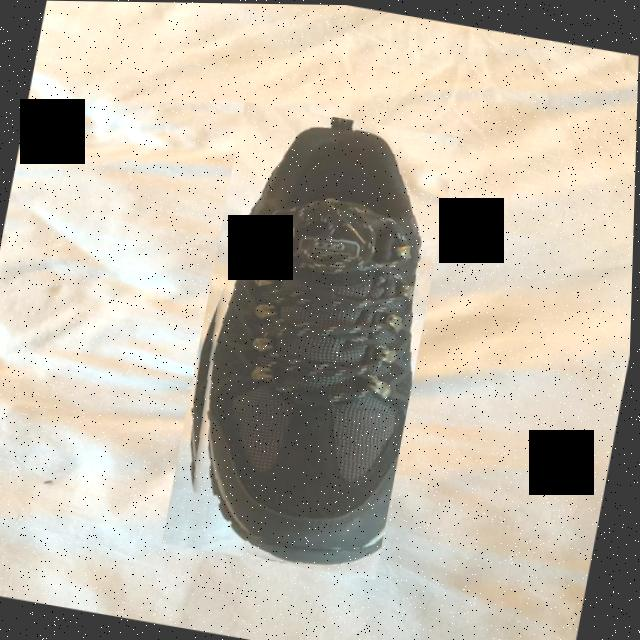shoe: (165, 100, 460, 580)
